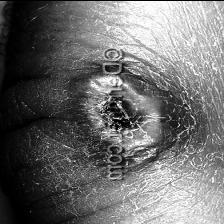Toxin: (76, 70, 162, 150)
